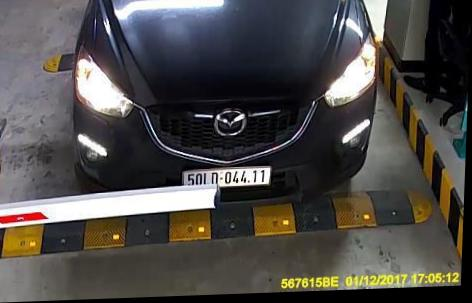License_Plate: (181, 164, 272, 189)
